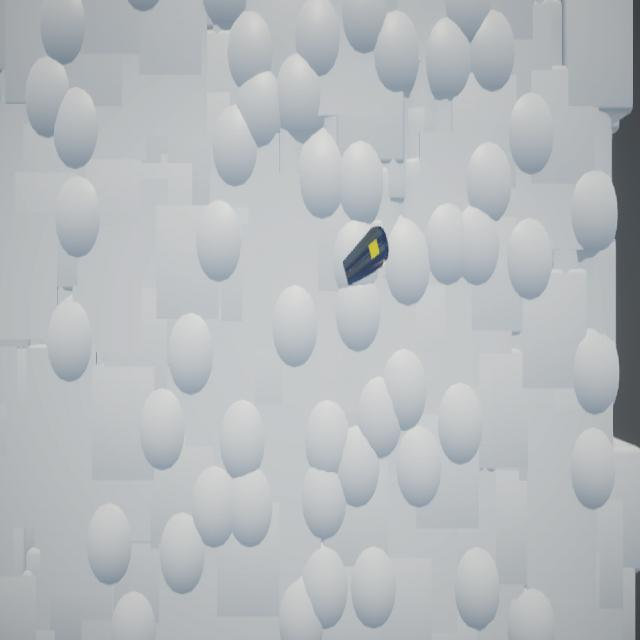handle_folk: (343, 227, 390, 287)
